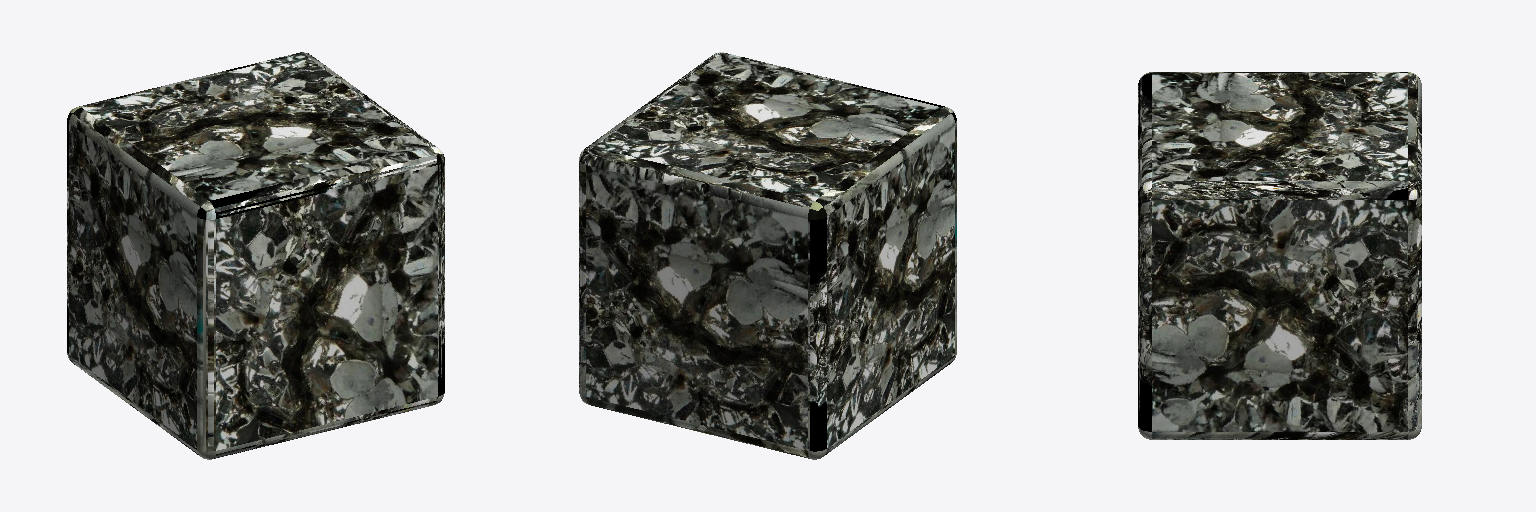
3 renders of one model, left to right at view 1: azimuth 30°, elevation 25°; view 2: azimuth 150°, elevation 25°; view 3: azimuth 270°, elevation 25°, orthographic.
Parts seen in each view (by area): view 1: Cube; view 2: Cube; view 3: Cube.
Boxes of the visible parts, <box> form: Cube: <box>67,52,444,459</box>; Cube: <box>579,52,956,459</box>; Cube: <box>1138,72,1421,439</box>.
Bounding box in the file's own units: 2 × 2 × 2.
Materials: 1 (1 with a texture image).